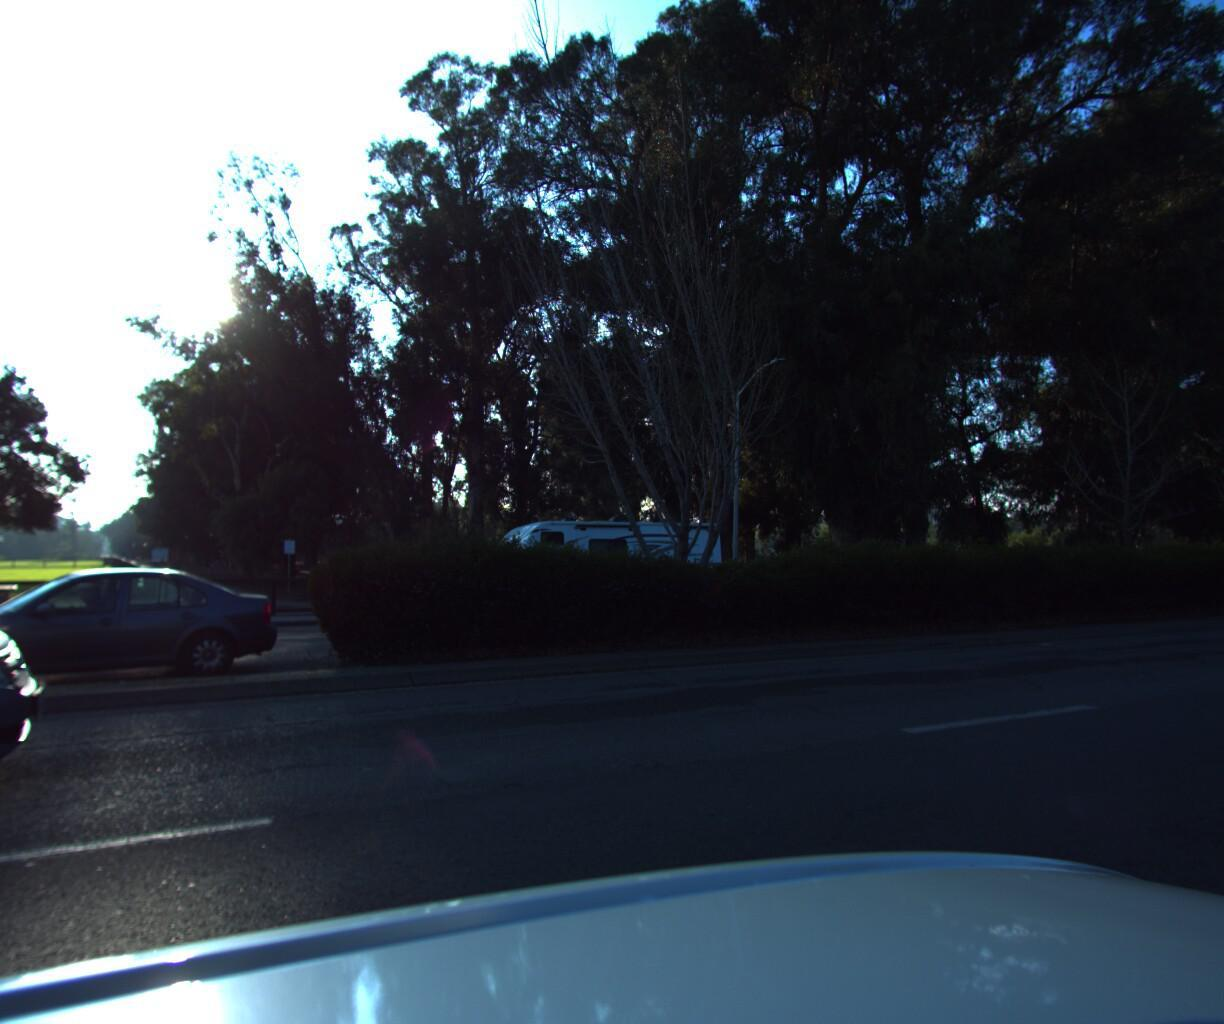car: (0, 454, 76, 1024), (0, 565, 283, 706)
other_vehicle: (469, 505, 728, 620)
